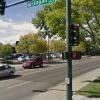Traffic light: (59, 16, 89, 53)
